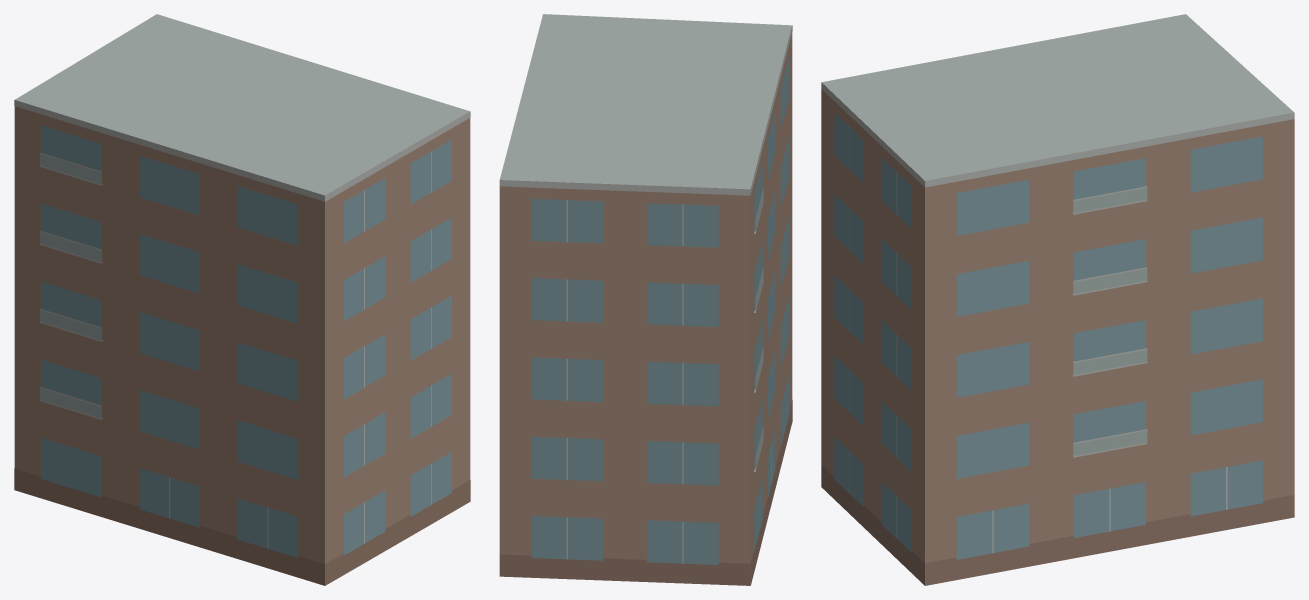
The model's file is residential-3ff3103a-2d28-45fc-be13-36d8165fcb6c.glb.
The picture shows the model from 3 angles, left to right: view 1: azimuth 30°, elevation 25°; view 2: azimuth 150°, elevation 25°; view 3: azimuth 270°, elevation 25°; orthographic projection. The views are drawn at different scales.
Parts seen in each view (by area): view 1: residential-3ff3103a-2d28-45fc-be13-36d8165fcb6c.tmp; view 2: residential-3ff3103a-2d28-45fc-be13-36d8165fcb6c.tmp; view 3: residential-3ff3103a-2d28-45fc-be13-36d8165fcb6c.tmp.
Part boxes in pixels (<box>): residential-3ff3103a-2d28-45fc-be13-36d8165fcb6c.tmp: <box>14,14,470,585</box>; residential-3ff3103a-2d28-45fc-be13-36d8165fcb6c.tmp: <box>499,14,792,585</box>; residential-3ff3103a-2d28-45fc-be13-36d8165fcb6c.tmp: <box>821,14,1294,585</box>.
Size of the model in its own units: 13.51 by 15.25 by 16.16.
